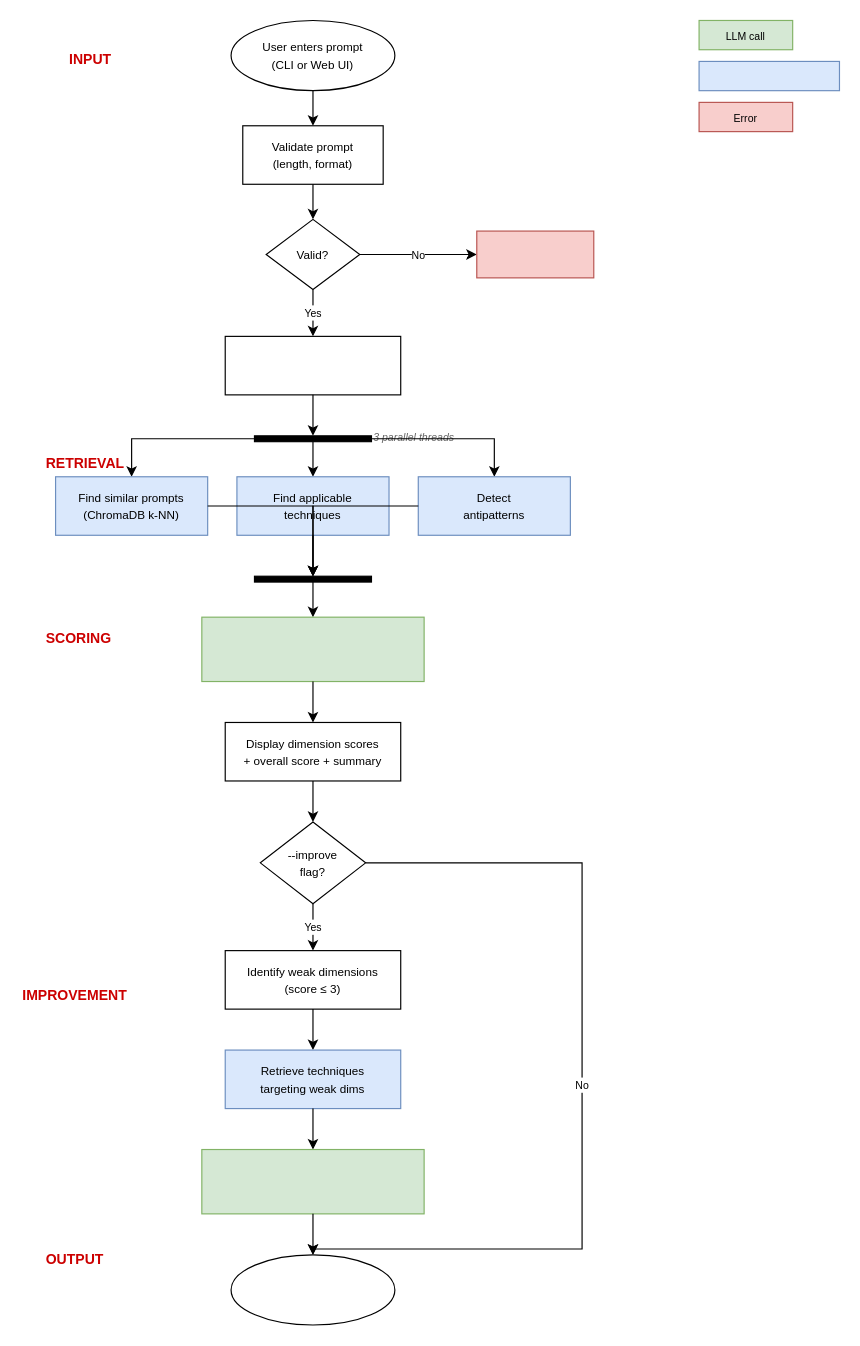
Image size: 860x1346. Some labels were removed from this diagram. The shapes that lost their labels are listed below. From the top down, each one's centre as x and y in pixels, then its label:
[768,75]: ChromaDB retrieval
[535,254]: Display error
[312,365]: Initialize Engine (LLM service, model, API key)
[312,649]: LLM Call #1: Score prompt (clarity, specificity, completeness)
[312,1181]: LLM Call #2: Generate improved prompt + changes
[312,1289]: Display results (Rich CLI / HTML)
